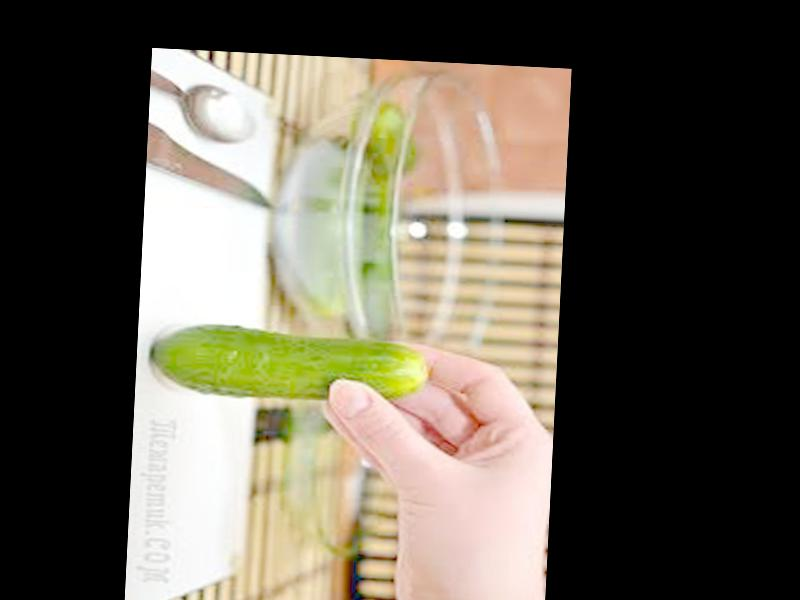Cucumber: (151, 321, 429, 406)
